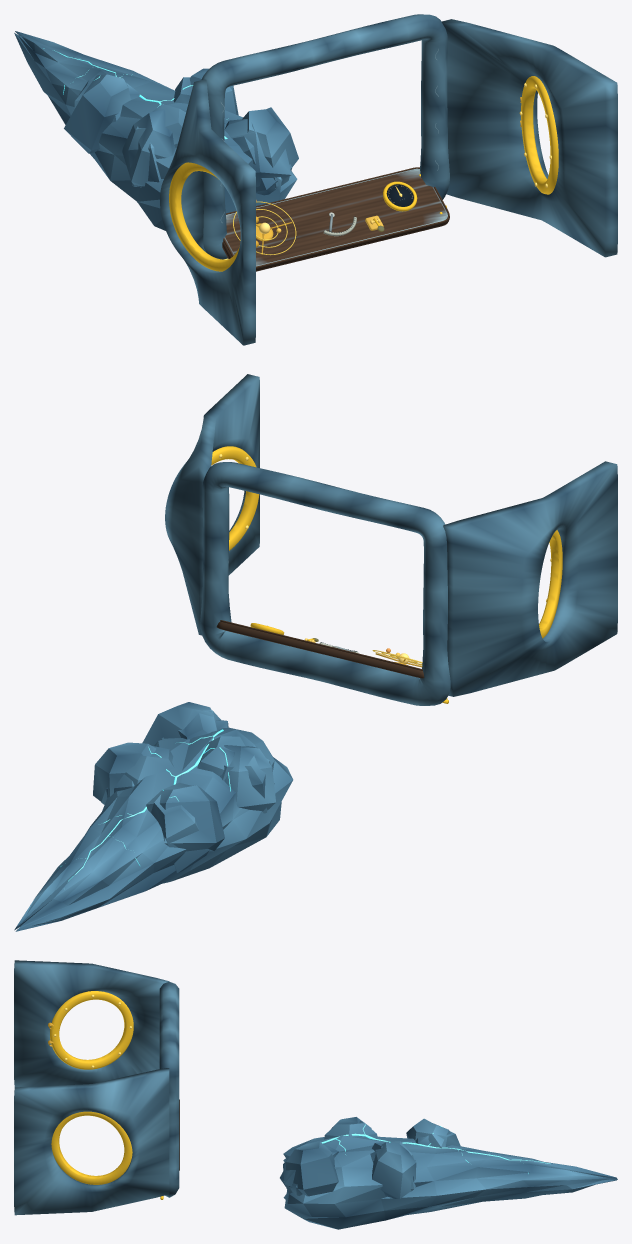
File: carlinga.glb
The picture shows the model from 3 angles, top to bottom: view 1: azimuth 30°, elevation 25°; view 2: azimuth 150°, elevation 25°; view 3: azimuth 270°, elevation 25°; orthographic projection. The views are drawn at different scales.
Visible parts, largest first — view 1: Marco_Hielo, Proa_Hielo, Tablero, Marco_Laton, Instrumentos_Laton; view 2: Marco_Hielo, Proa_Hielo, Marco_Laton, Tablero; view 3: Marco_Hielo, Proa_Hielo, Marco_Laton.
Part boxes in pixels (x1,y1,x2,y2): Marco_Hielo: (160, 14, 617, 345); Proa_Hielo: (14, 31, 298, 230); Tablero: (222, 167, 449, 271); Marco_Laton: (169, 76, 558, 271); Instrumentos_Laton: (233, 174, 442, 255); Marco_Hielo: (165, 374, 617, 705); Proa_Hielo: (14, 702, 293, 931); Marco_Laton: (211, 446, 562, 703); Tablero: (216, 620, 424, 678); Marco_Hielo: (14, 960, 179, 1215); Proa_Hielo: (280, 1117, 617, 1229); Marco_Laton: (48, 991, 163, 1199).
Size of the model in its own units: 5.24 by 3.78 by 10.1.
